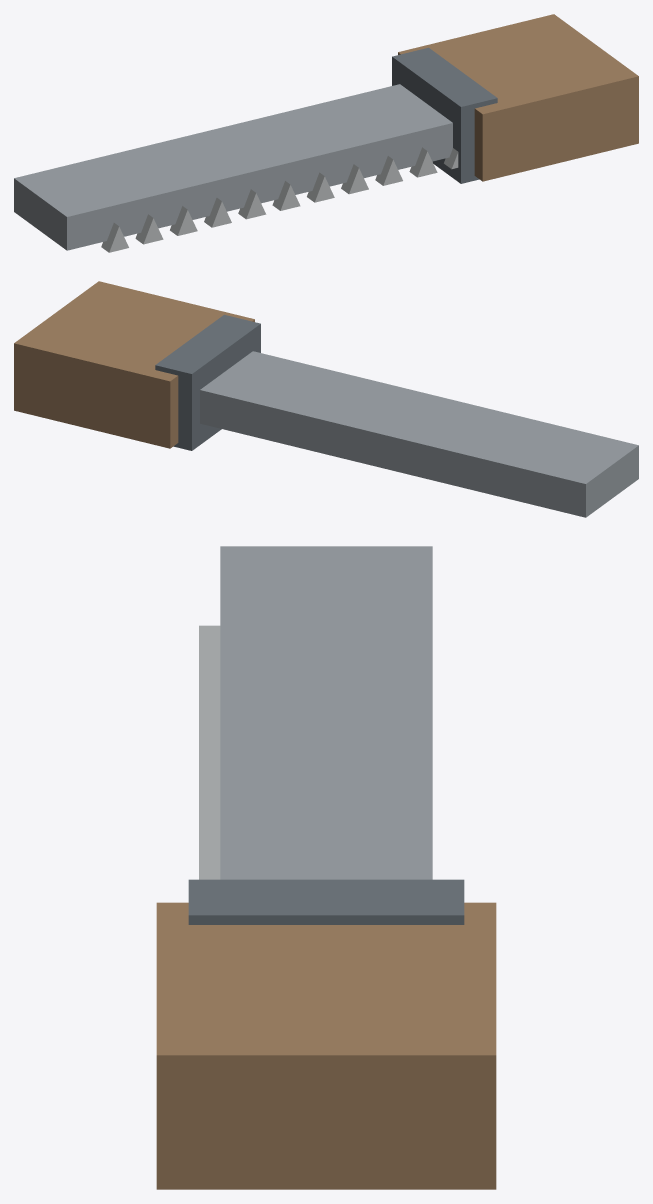
The model's file is saw.glb.
3 renders of one model, top to bottom at view 1: azimuth 30°, elevation 25°; view 2: azimuth 150°, elevation 25°; view 3: azimuth 270°, elevation 25°, orthographic. The views are drawn at different scales.
Parts seen in each view (by area): view 1: 00_blade, 13_handle, 14_handle_collar, 05_tooth, 03_tooth, 08_tooth, 09_tooth, 10_tooth, 01_tooth, 04_tooth, 06_tooth, 02_tooth (+1 smaller); view 2: 00_blade, 13_handle, 14_handle_collar; view 3: 13_handle, 00_blade, 14_handle_collar.
Part boxes in pixels (x1,y1,x2,y2): 00_blade: (14,84,452,250); 13_handle: (398,14,638,181); 14_handle_collar: (392,47,497,183); 05_tooth: (238,189,266,219); 03_tooth: (170,206,197,235); 08_tooth: (341,164,368,194); 09_tooth: (375,156,402,185); 10_tooth: (409,147,437,177); 01_tooth: (101,223,128,252); 04_tooth: (204,198,231,227); 06_tooth: (272,181,300,210); 02_tooth: (135,214,163,244); 00_blade: (200,351,638,517); 13_handle: (14,281,254,448); 14_handle_collar: (155,314,260,450); 13_handle: (156,902,496,1189); 00_blade: (220,546,432,879); 14_handle_collar: (188,879,464,924).
Size of the model in its own units: 0.605 by 0.08 by 0.16.
